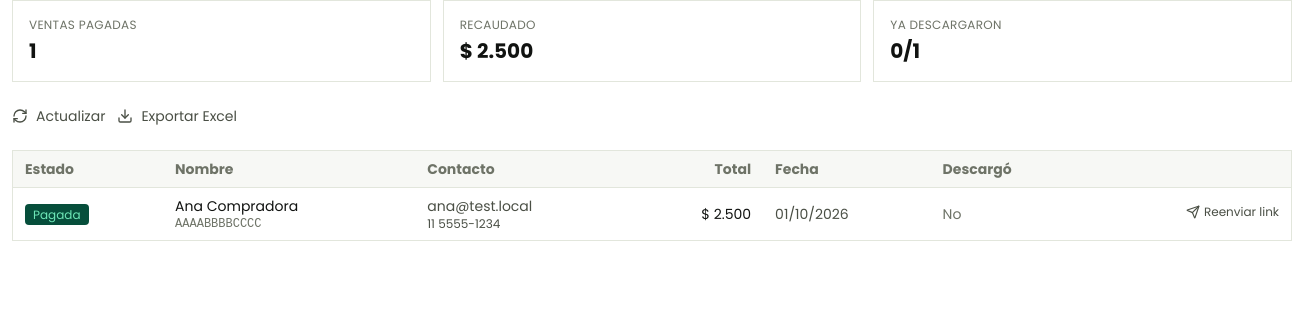
Test: PanelVentasProductos › reenviar el link › si no se puede, muestra el motivo sin perder la lista
Click the button with aria-label "Reenviar link a Ana Compradora": (1232, 212) 1186,204 -> 1279,220
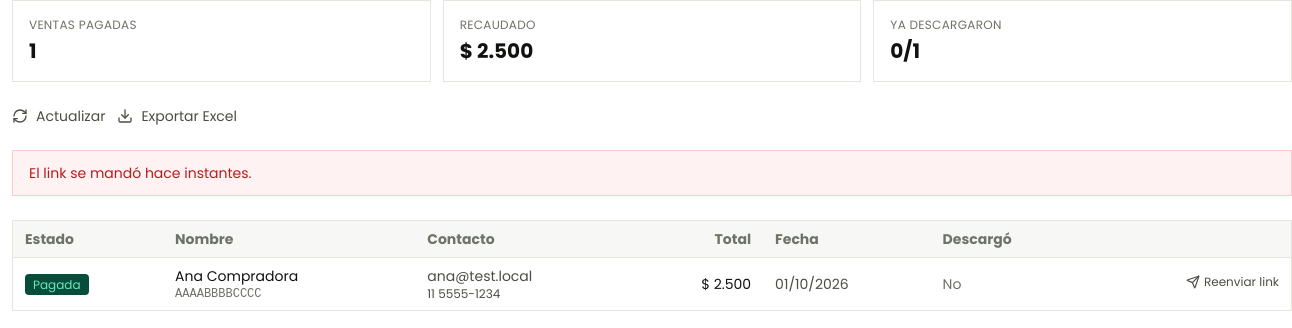
Expected: the text "Ana Compradora" is shown, 175,266 -> 298,286
Expected: the message reads "El link se mandó hace instantes.", 29,163 -> 252,183
